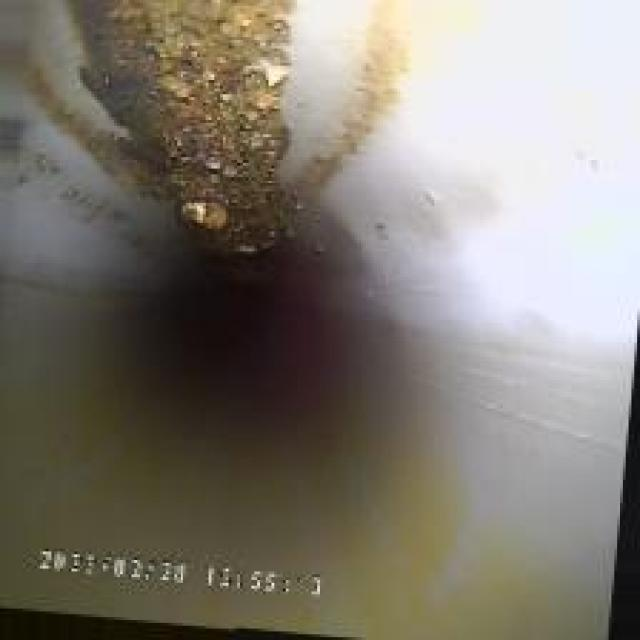stone: (160, 183, 246, 248)
